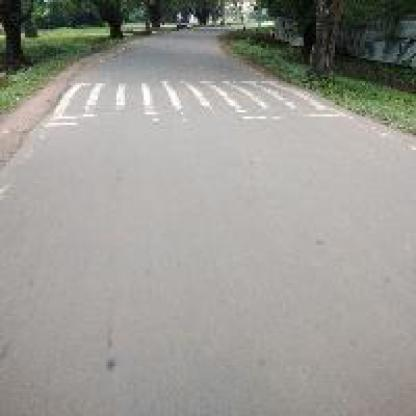Speed Bump: (44, 75, 347, 131)
